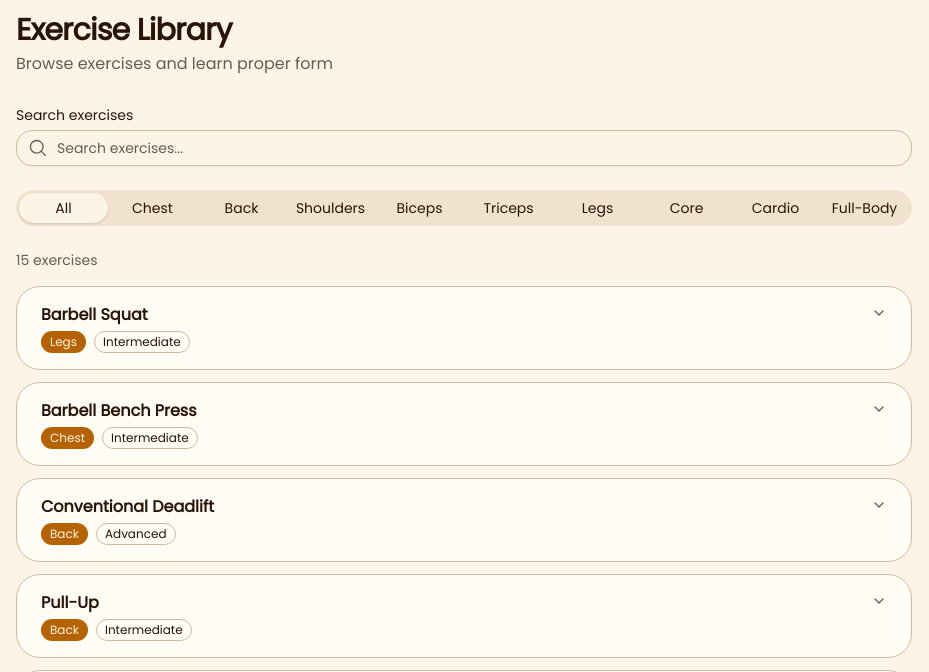
Test: LibraryView - Behavior › should expand and collapse exercise details
The image size is (929, 672).
# Click to expand
Click the button "Barbell Squat legs intermediate": (94, 314) x1=41 y1=287 x2=887 y2=369
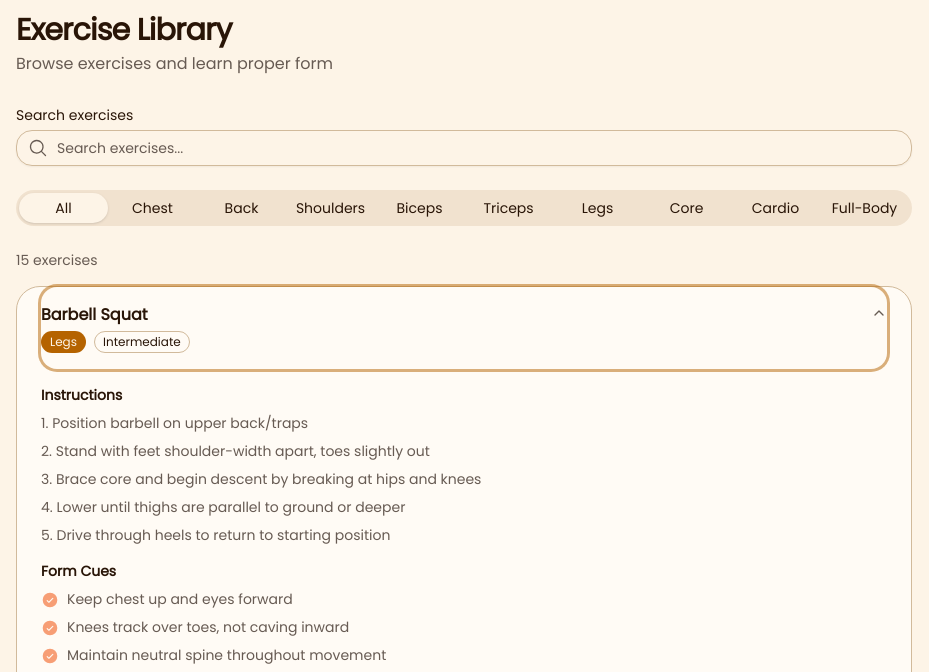
Now the heading "Instructions" is shown, box x1=41 y1=385 x2=122 y2=405
Now the heading "Form Cues" is shown, box x1=41 y1=561 x2=116 y2=581
